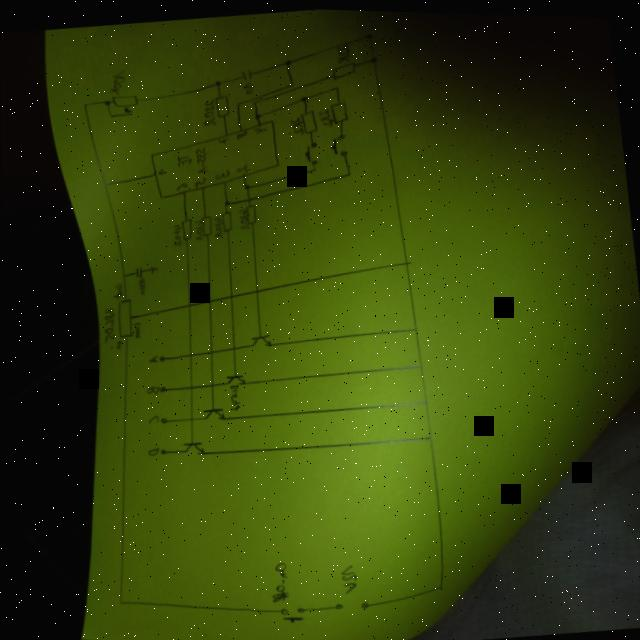capacitor: (239, 65, 252, 78), (132, 263, 143, 276)
crossover: (206, 379, 215, 386), (243, 193, 252, 200), (206, 346, 214, 353), (252, 284, 259, 291), (226, 290, 233, 297), (205, 295, 212, 302), (184, 299, 191, 306), (185, 349, 192, 356), (229, 342, 236, 349), (187, 413, 194, 420), (187, 382, 192, 388)
ground: (147, 262, 159, 272)
junction: (361, 26, 374, 37), (368, 52, 379, 61), (211, 76, 222, 84), (281, 55, 292, 62), (400, 255, 409, 263), (298, 91, 307, 99), (251, 109, 260, 117), (101, 97, 110, 105), (342, 166, 351, 174), (424, 430, 433, 437), (419, 395, 428, 402), (414, 359, 423, 366), (409, 322, 418, 329), (99, 179, 108, 186), (114, 598, 123, 605), (242, 181, 251, 188), (106, 110, 113, 118), (285, 77, 292, 84), (309, 163, 316, 170), (81, 100, 88, 106), (331, 82, 339, 87), (234, 98, 241, 103), (222, 198, 229, 203), (251, 96, 257, 101), (436, 580, 442, 585), (119, 271, 125, 276)
resistor: (110, 90, 141, 116), (329, 57, 357, 77), (328, 96, 348, 121), (297, 106, 317, 131), (213, 90, 230, 116), (179, 215, 192, 238), (219, 208, 232, 229), (199, 212, 211, 233), (244, 201, 256, 222)
switch: (276, 602, 304, 621), (328, 129, 346, 154), (302, 138, 319, 164)
terminal: (357, 596, 370, 606), (330, 598, 342, 607), (158, 414, 167, 421), (157, 383, 166, 390), (157, 446, 165, 453), (157, 353, 165, 360)
text: (265, 558, 288, 601), (174, 143, 208, 172), (99, 304, 116, 340), (337, 560, 356, 591), (106, 67, 126, 93), (200, 96, 217, 123), (226, 381, 240, 408), (316, 105, 333, 123), (334, 40, 350, 59), (288, 113, 304, 132), (170, 220, 182, 244), (236, 205, 249, 226), (191, 216, 203, 238), (211, 213, 223, 235), (110, 281, 122, 298), (212, 165, 229, 177), (136, 275, 146, 292), (241, 78, 254, 91), (192, 173, 205, 185), (131, 319, 140, 336), (108, 338, 121, 348), (234, 160, 247, 170), (146, 412, 158, 422), (251, 123, 266, 131), (144, 383, 157, 392), (145, 444, 158, 453), (174, 179, 187, 188), (234, 127, 247, 136), (146, 352, 158, 361), (155, 165, 167, 173), (216, 134, 229, 141)
transistor: (179, 438, 203, 455), (247, 330, 270, 346), (200, 404, 224, 419), (222, 370, 245, 385)
